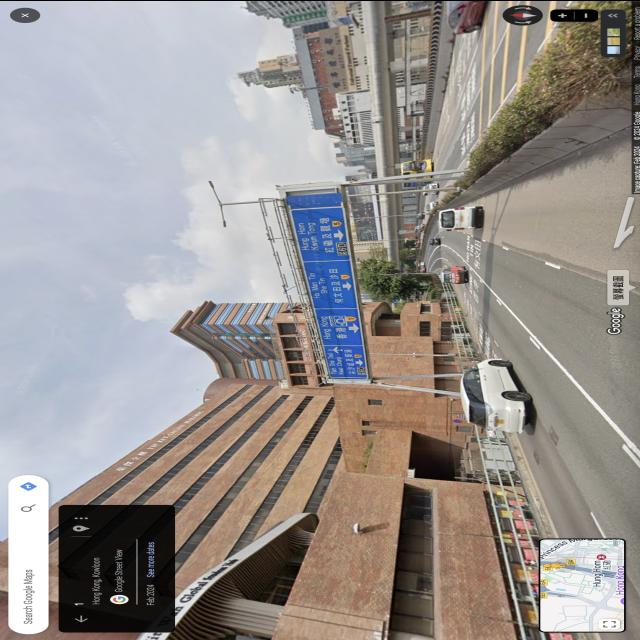Direction-Sign: (291, 207, 367, 377)
